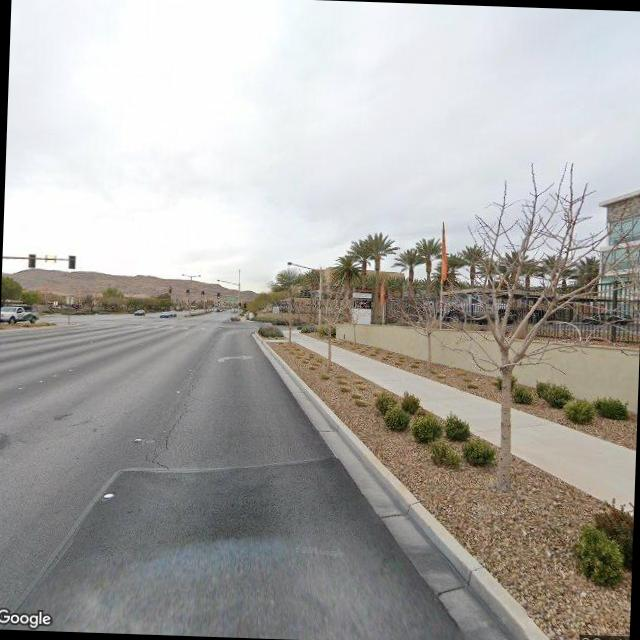pothole: (145, 400, 189, 470)
